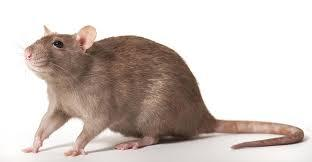rat: (21, 22, 305, 158)
